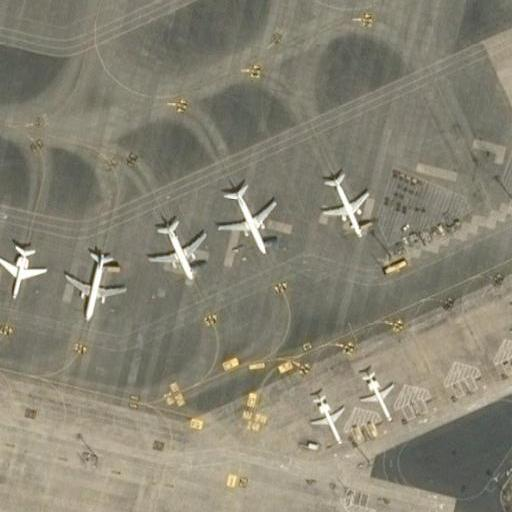Aircraft: (215, 179, 279, 257), (64, 243, 124, 319), (146, 219, 207, 285), (314, 172, 372, 240), (0, 239, 48, 298), (310, 393, 345, 449), (359, 369, 394, 421), (508, 299, 512, 354)
